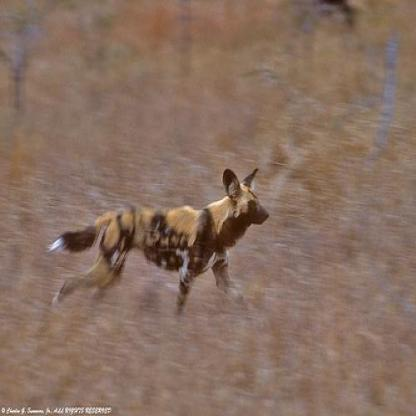African_hunting_dog: (47, 162, 271, 326)
